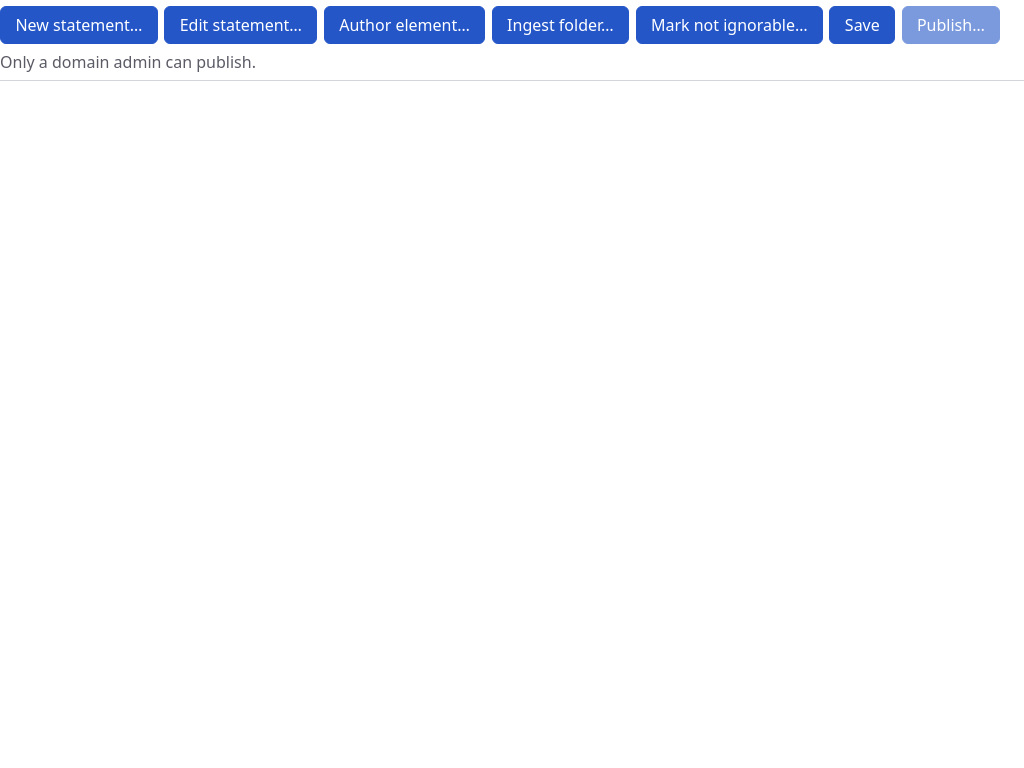
Test case: statement_dialogs › edit_without_statements_says_so
Click the button "Edit statement…": (241, 25) [164,6,317,44]
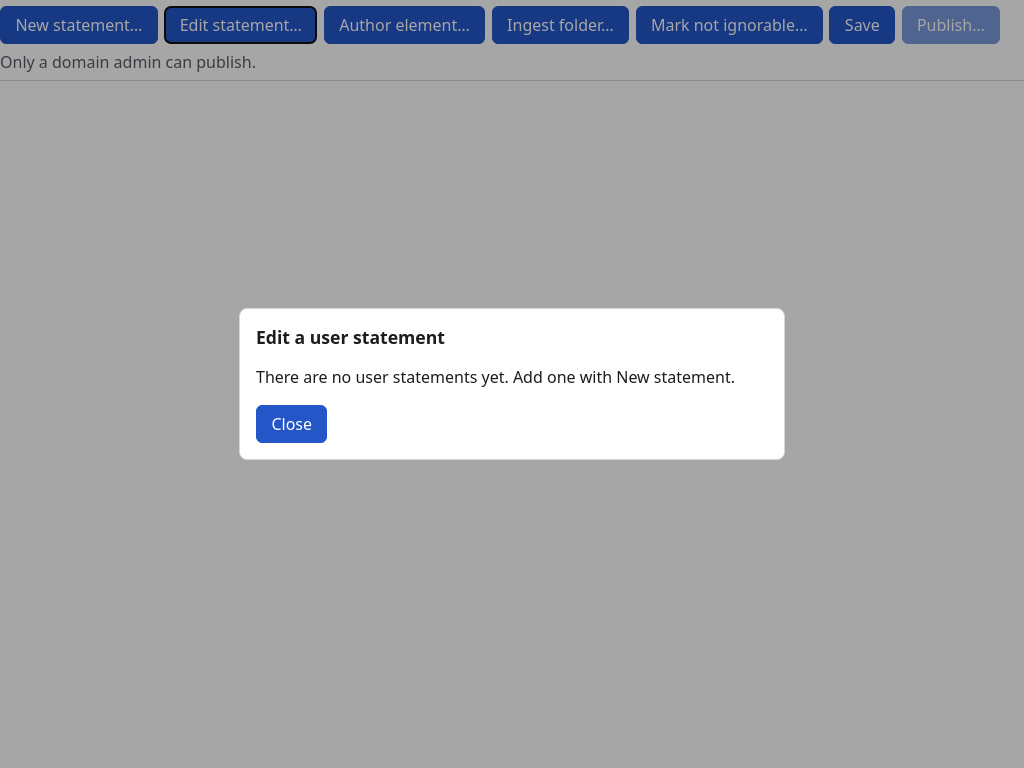
Expected: the text "no user statements yet" is shown, [256,366,735,388]
